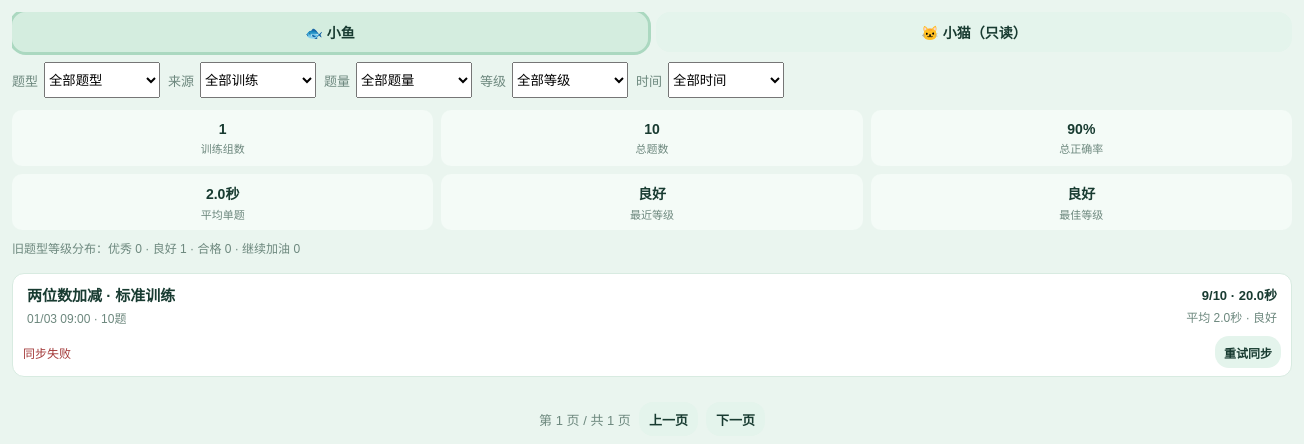
Test: HistoryList › switches to the paired user as read-only and never exposes a retry action
Expected: the button "重试同步" is shown, x1=1215 y1=336 x2=1281 y2=368
Click the button "🐱 小猫（只读）" at (974, 32), box x1=656 y1=12 x2=1292 y2=52
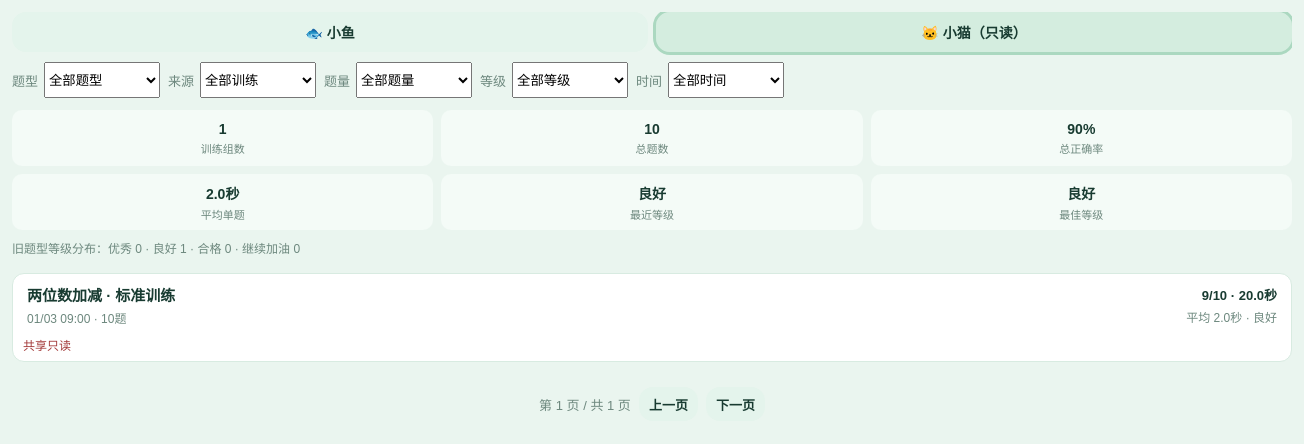
Now the text "共享只读" is shown, box x1=23 y1=336 x2=71 y2=353
Now the button "重试同步" is gone
